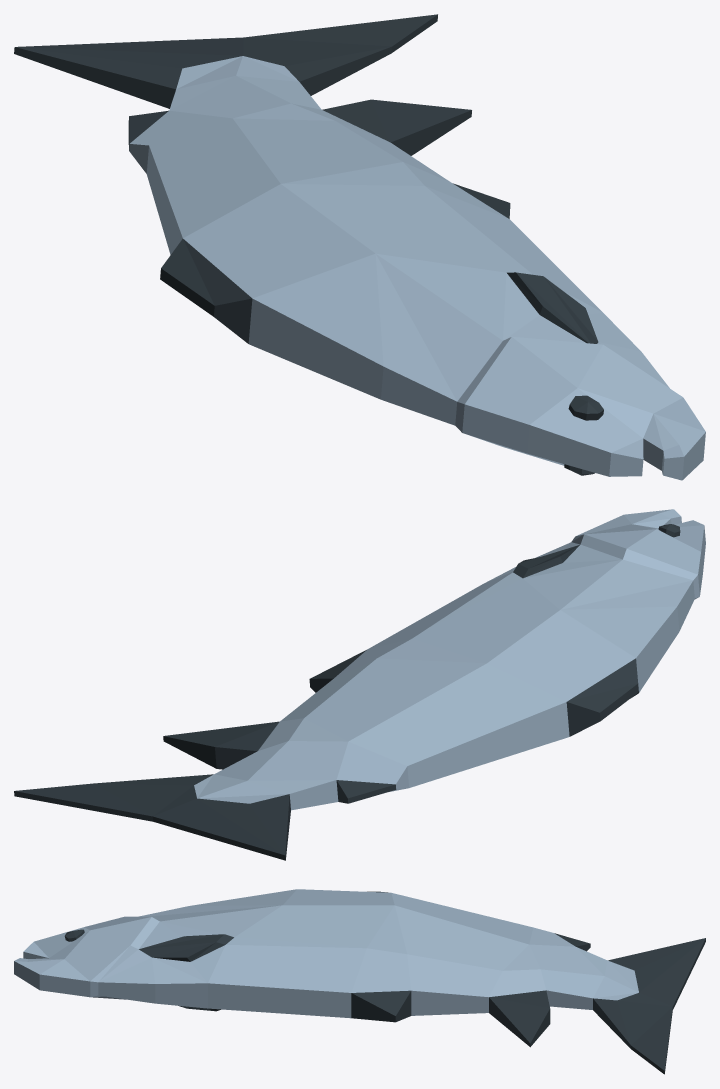
The model's file is Fish02.fbx.
3 views of the same model, one above another, from view 1: azimuth 30°, elevation 25°; view 2: azimuth 150°, elevation 25°; view 3: azimuth 270°, elevation 25° (orthographic). The views are drawn at different scales.
Visible parts, largest first — view 1: Fish02; view 2: Fish02; view 3: Fish02.
Part boxes in pixels (left/top/right/bottom): Fish02: left=14, top=14, right=705, bottom=480; Fish02: left=14, top=509, right=705, bottom=860; Fish02: left=14, top=889, right=705, bottom=1074.
Size of the model in its own units: 47.34 by 11.38 by 92.5.
